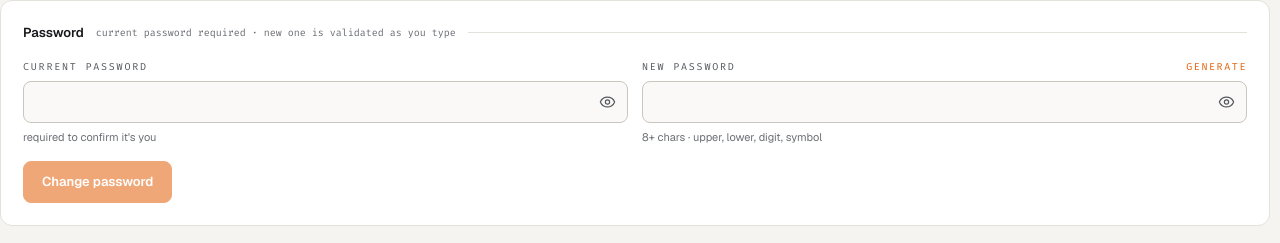
Test: PasswordSection › disables submit until both fields are filled and valid
Expected: the button "Change password" is disabled, [23,161,172,202]
Step 1. Type "old-pass" into the password field labelled "Current password" → (326, 102), box [23,80,628,122]
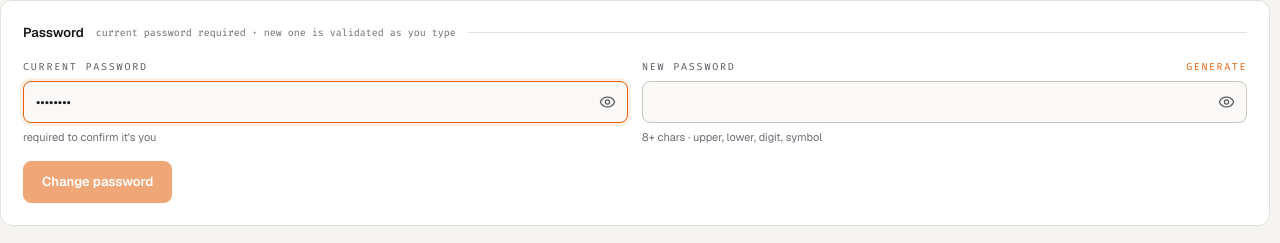
Expected: the button "Change password" is disabled, [23,161,172,202]
Step 2. Click the button "Generate" → click(1217, 66), box [1186,58,1247,74]
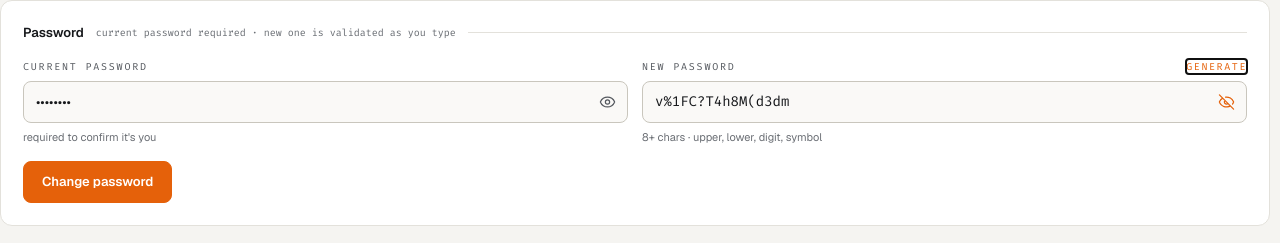
Now the button "Change password" is enabled, box [23,161,172,202]
